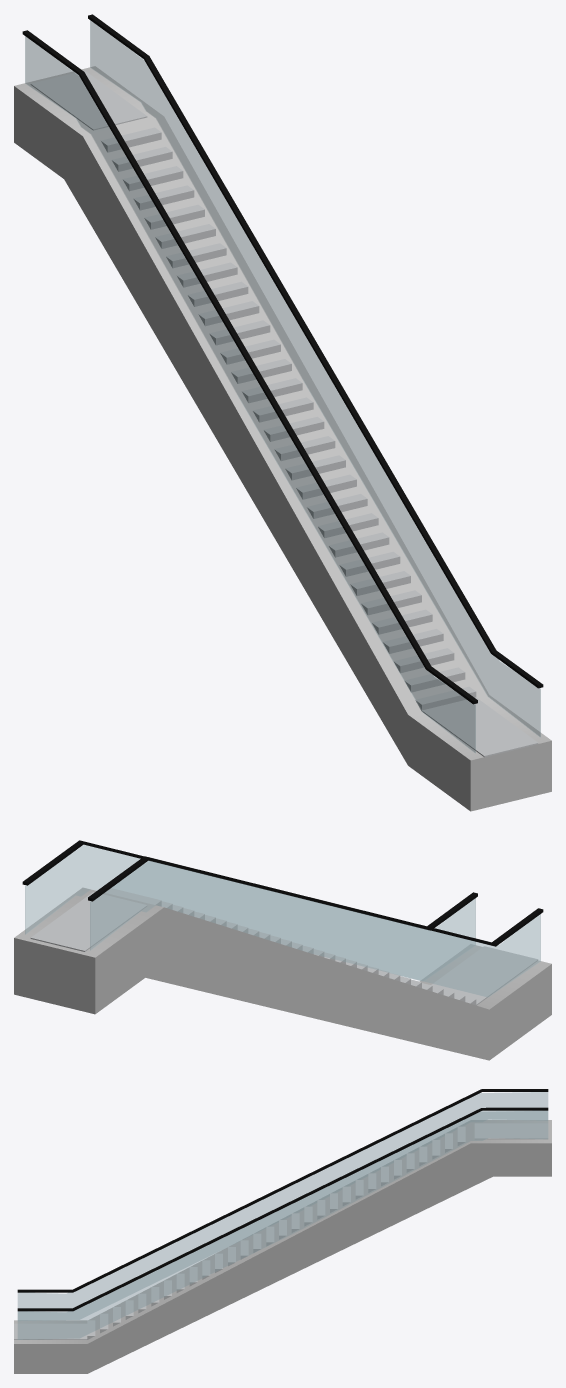
Rendered from airport.move.escalator_6000.glb.
The picture shows the model from 3 angles, top to bottom: view 1: azimuth 30°, elevation 25°; view 2: azimuth 150°, elevation 25°; view 3: azimuth 270°, elevation 25°; orthographic projection. The views are drawn at different scales.
Visible parts, largest first — view 1: truss__steel_stainless, balustrade__glass, steps__aluminium, balustrade__rubber; view 2: truss__steel_stainless, balustrade__glass, steps__aluminium, balustrade__rubber; view 3: truss__steel_stainless, balustrade__glass, steps__aluminium, balustrade__rubber.
Boxes of the visible parts, x1,y1,x2,y2 form: truss__steel_stainless: (14, 66, 551, 811); balustrade__glass: (25, 20, 540, 752); steps__aluminium: (30, 70, 538, 757); balustrade__rubber: (22, 14, 543, 704); truss__steel_stainless: (14, 887, 551, 1060); balustrade__glass: (25, 845, 540, 997); steps__aluminium: (30, 888, 537, 1005); balustrade__rubber: (22, 840, 543, 946); truss__steel_stainless: (14, 1120, 551, 1373); balustrade__glass: (17, 1092, 548, 1339); steps__aluminium: (14, 1123, 548, 1339); balustrade__rubber: (17, 1089, 548, 1311).
Bounding box in the file's own units: 1.5 × 7.87 × 14.59.
